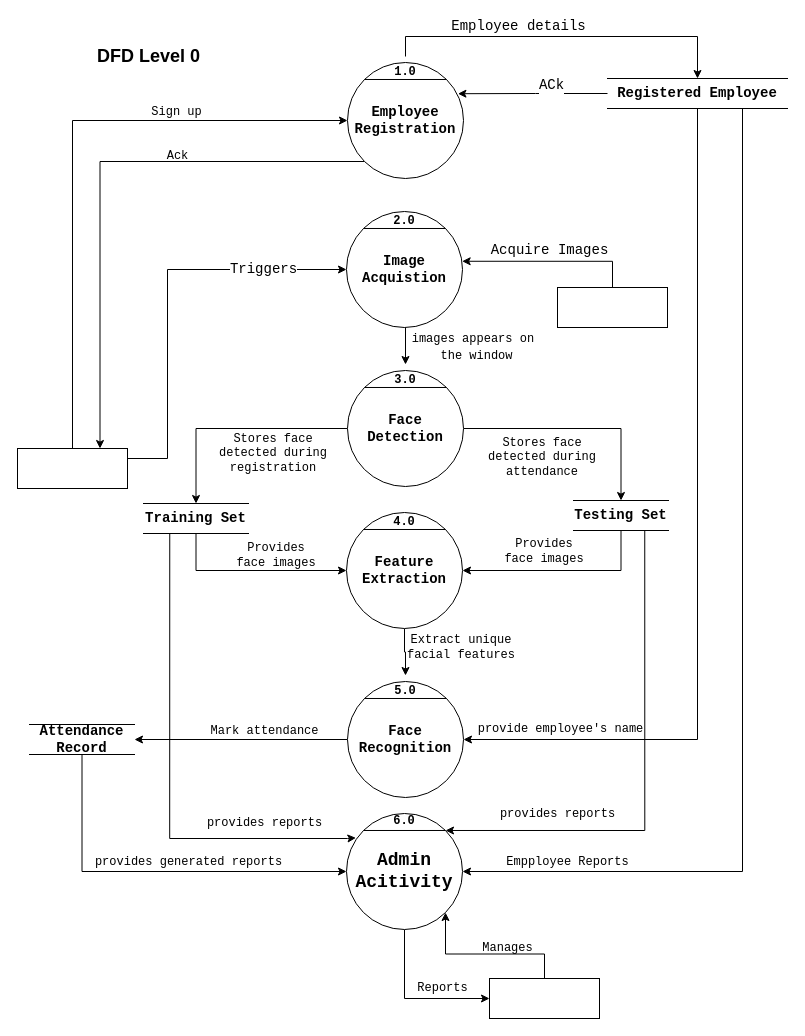
Some shapes in this 805 by 1036 pixel diagram are drawn without their labels. Here are the shapes that lost their labels. From the top down, the centre of each, then its label:
(612,307): Web Cam
(72,468): Employee
(544,998): Admin
